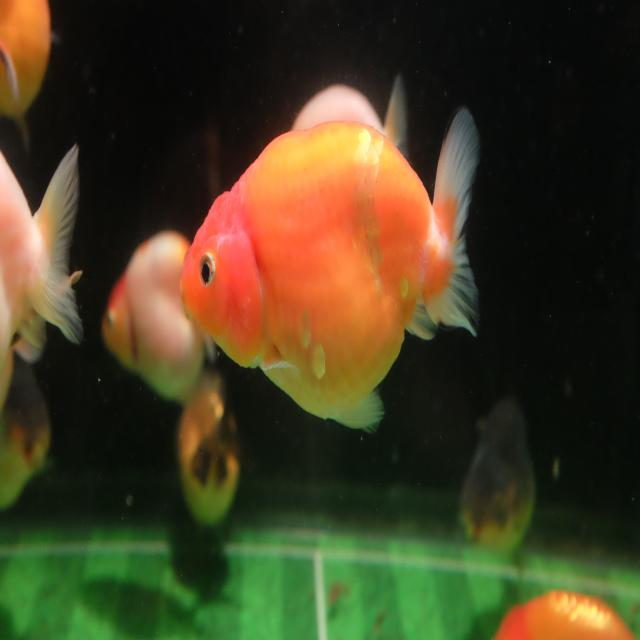Goldfish: (176, 100, 483, 437), (101, 232, 215, 406), (0, 137, 81, 380)
